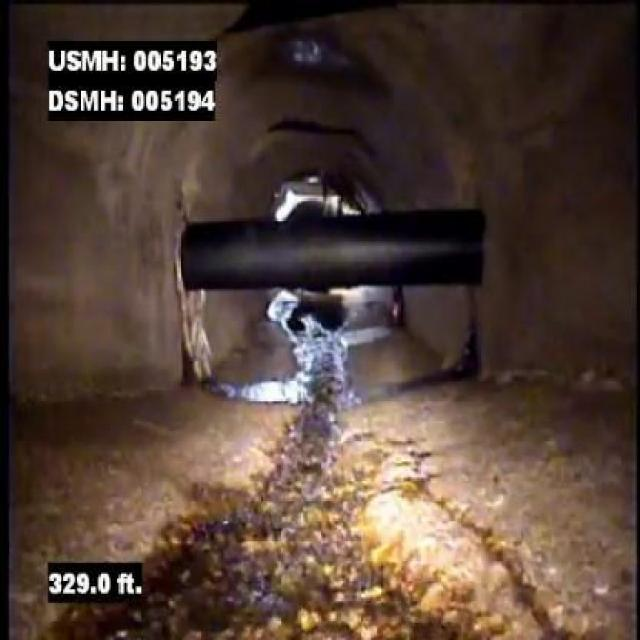Crack: (400, 440, 568, 634)
Utility intrusion: (172, 197, 492, 294)
